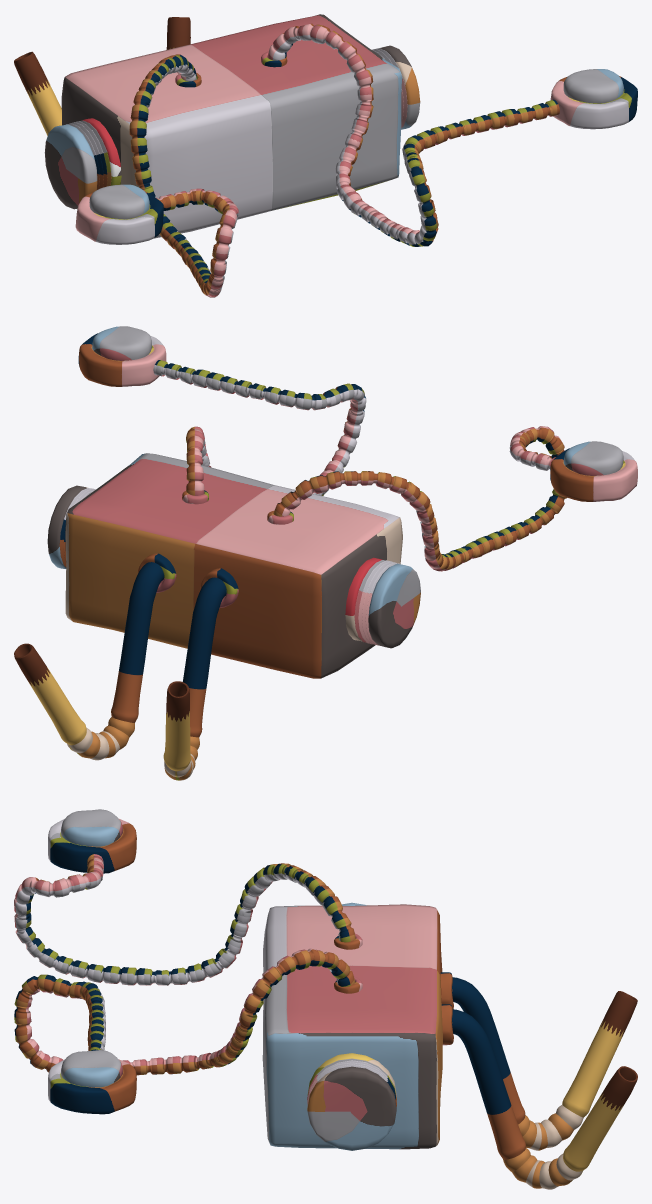
The model's file is Motor.fbx.
3 views of the same model, one above another, from view 1: azimuth 30°, elevation 25°; view 2: azimuth 150°, elevation 25°; view 3: azimuth 270°, elevation 25° (orthographic). The views are drawn at different scales.
Parts seen in each view (by area): view 1: Motor, Cord_L, Cord_R, DynamicPart_R, Straw_R, Button_R, Button_L, DynamicPart_L, Straw_L; view 2: Motor, Cord_R, Cord_L, Straw_L, Straw_R, DynamicPart_R, Button_R, Button_L, DynamicPart_L, StrawConnector_R; view 3: Motor, Cord_R, Cord_L, Straw_L, Straw_R, DynamicPart_L, Button_L, Button_R.
Part boxes in pixels (bbox=[...]): Motor: bbox=[61, 14, 401, 238]; Cord_L: bbox=[267, 23, 637, 246]; Cord_R: bbox=[75, 54, 238, 297]; DynamicPart_R: bbox=[44, 118, 121, 209]; Straw_R: bbox=[14, 51, 61, 135]; Button_R: bbox=[89, 184, 149, 219]; Button_L: bbox=[563, 69, 623, 103]; DynamicPart_L: bbox=[371, 45, 420, 129]; Straw_L: bbox=[166, 17, 190, 49]; Motor: bbox=[65, 453, 402, 678]; Cord_R: bbox=[273, 426, 637, 571]; Cord_L: bbox=[78, 333, 366, 495]; Straw_L: bbox=[14, 562, 164, 760]; Straw_R: bbox=[163, 577, 226, 780]; DynamicPart_R: bbox=[345, 557, 420, 648]; Button_R: bbox=[563, 441, 623, 475]; Button_L: bbox=[92, 326, 151, 360]; DynamicPart_L: bbox=[47, 485, 95, 568]; StrawConnector_R: bbox=[200, 568, 238, 608]; Motor: bbox=[262, 904, 442, 1149]; Cord_R: bbox=[14, 818, 355, 985]; Cord_L: bbox=[14, 948, 355, 1114]; Straw_L: bbox=[452, 1009, 637, 1189]; Straw_R: bbox=[452, 977, 637, 1150]; DynamicPart_L: bbox=[307, 1053, 396, 1150]; Button_L: bbox=[61, 1050, 122, 1087]; Button_R: bbox=[61, 809, 122, 846].
Bounding box in the file's own units: 482 × 201 × 456.
